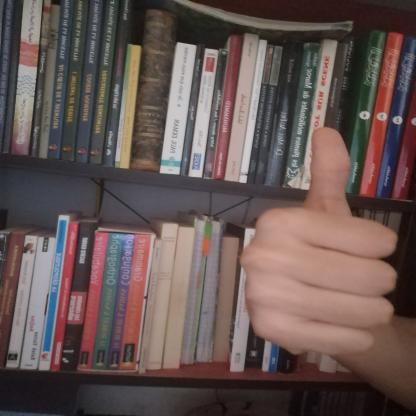ALIF: (228, 118, 407, 362)
